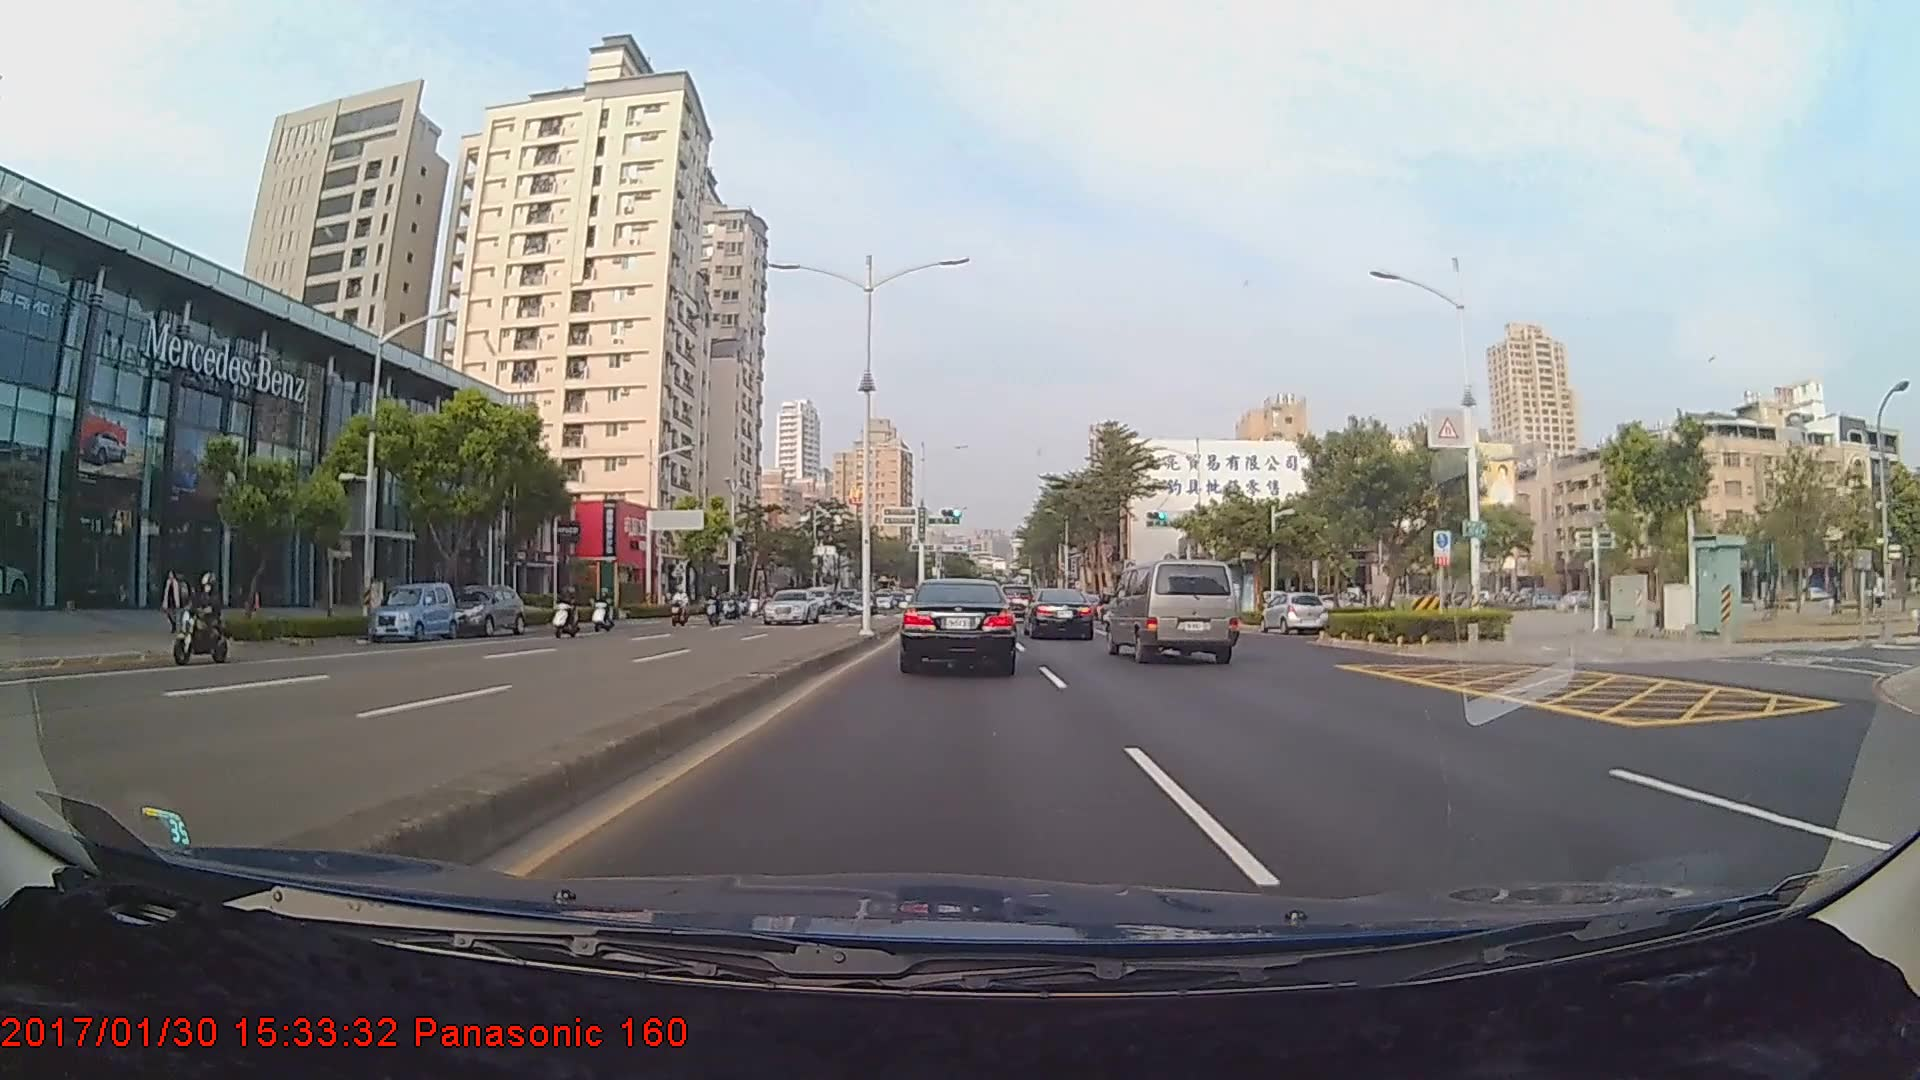pedestrian: (163, 569, 186, 635)
rider: (162, 569, 234, 669), (541, 585, 587, 641), (589, 584, 620, 638), (666, 584, 693, 631)
vehicle: (1106, 558, 1240, 664), (901, 576, 1017, 675), (368, 581, 456, 642), (442, 582, 528, 636), (1024, 588, 1095, 641), (1260, 591, 1325, 635), (762, 588, 817, 623)
